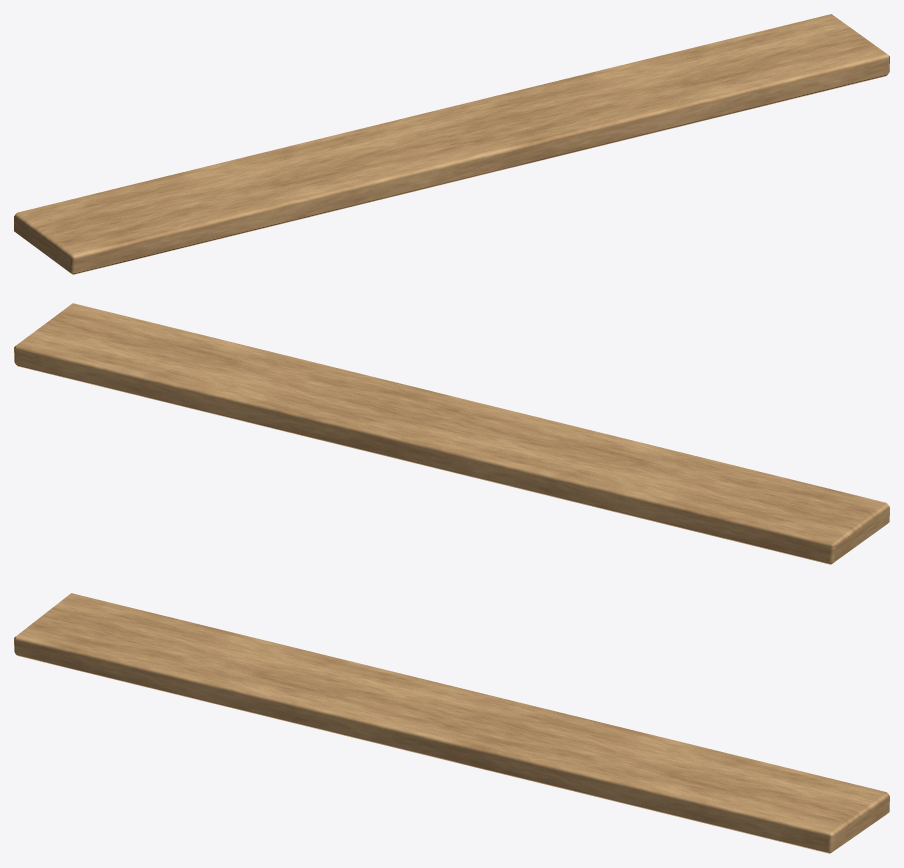
The model's file is Plank_2m.glb.
The picture shows the model from 3 angles, top to bottom: view 1: azimuth 30°, elevation 25°; view 2: azimuth 150°, elevation 25°; view 3: azimuth 330°, elevation 25°; orthographic projection.
Visible parts, largest first — view 1: Plank_2m; view 2: Plank_2m; view 3: Plank_2m.
Part boxes in pixels (x1=…): Plank_2m: x1=14, y1=14, x2=889, y2=274; Plank_2m: x1=14, y1=303, x2=889, y2=564; Plank_2m: x1=14, y1=593, x2=889, y2=853.
Size of the model in its own units: 2 by 0.0538 by 0.2528.
1 material, 1 textured.
